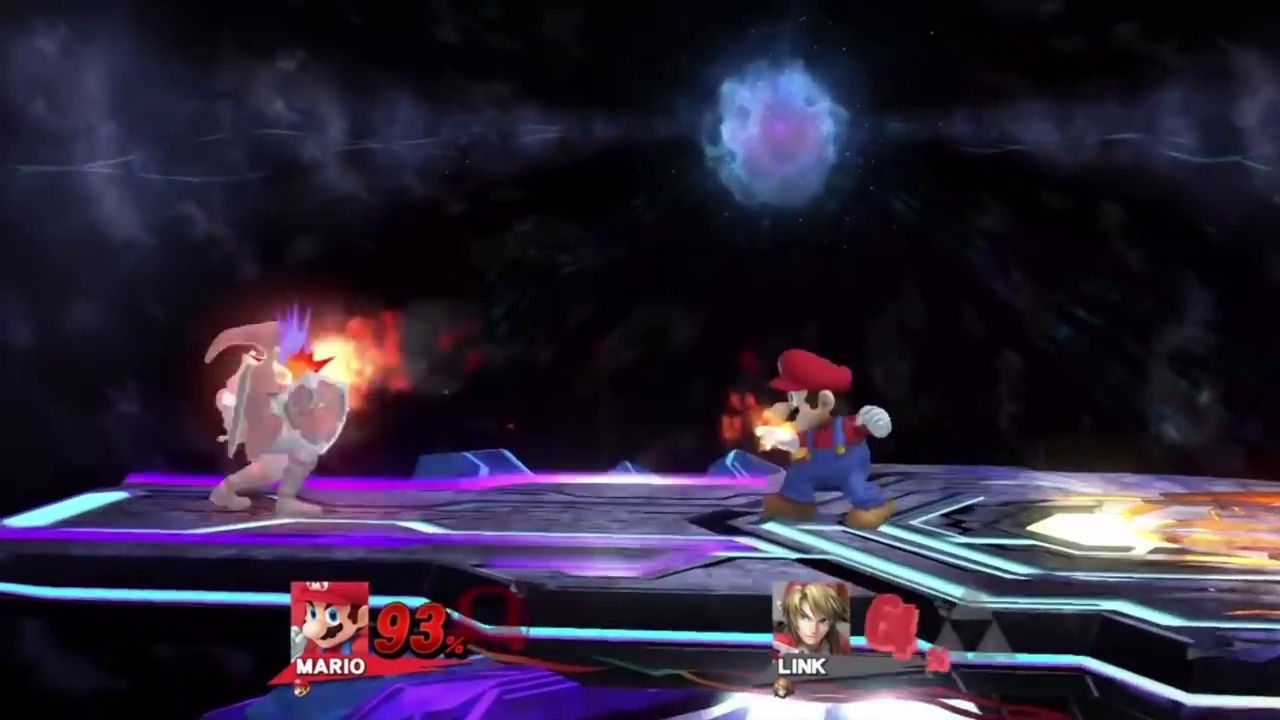Mario: (754, 348, 901, 531)
